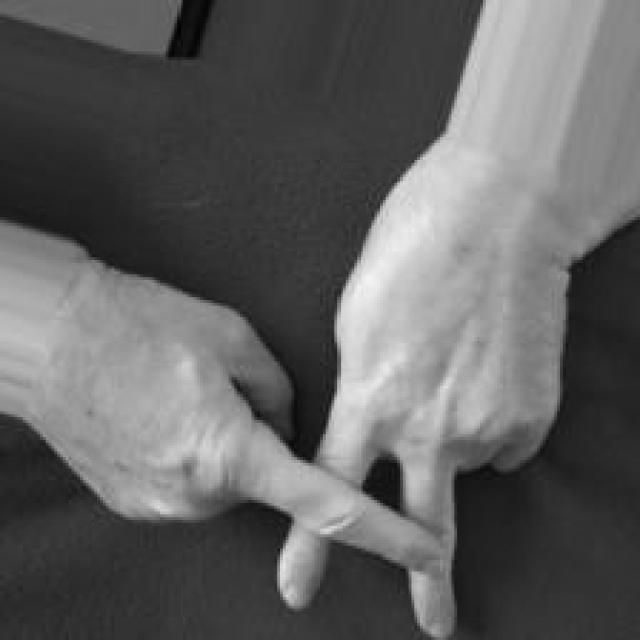A: (54, 180, 577, 640)
